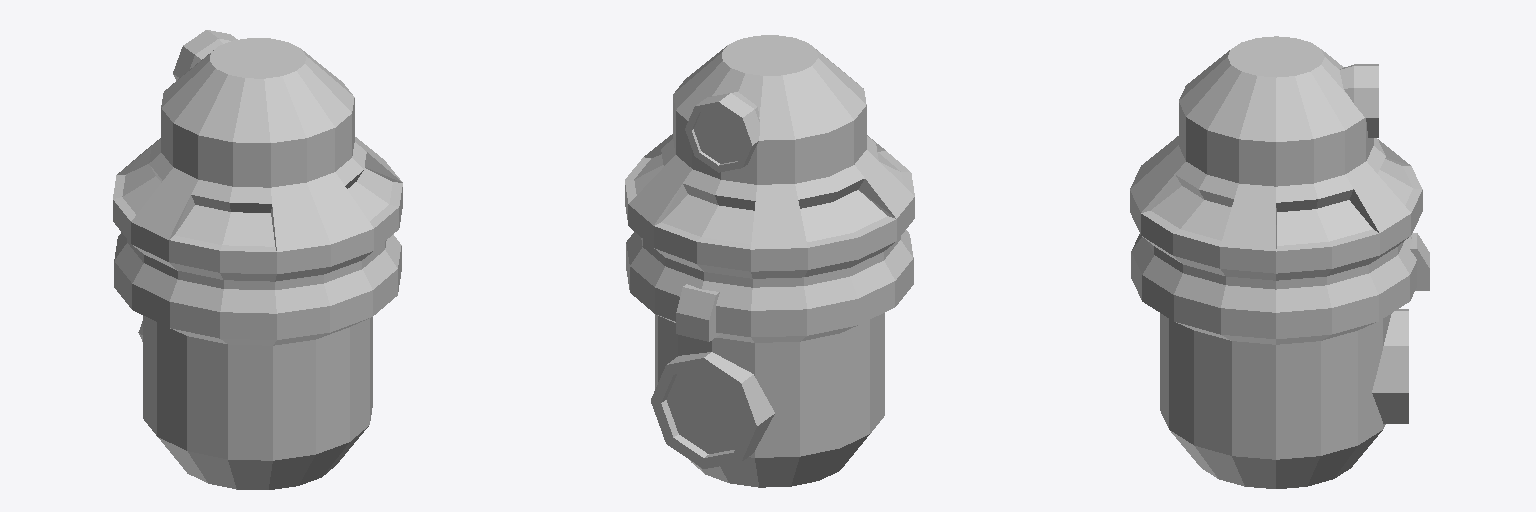
The model's file is Little Guy.obj.
3 views of the same model, side by side, from view 1: azimuth 30°, elevation 25°; view 2: azimuth 150°, elevation 25°; view 3: azimuth 270°, elevation 25° (orthographic).
Parts seen in each view (by area): view 1: Cylinder.003_Cylinder.006; view 2: Cylinder.003_Cylinder.006; view 3: Cylinder.003_Cylinder.006.
Boxes of the visible parts, box(x1,y1,x2,y2) form: Cylinder.003_Cylinder.006: box(113, 30, 402, 489); Cylinder.003_Cylinder.006: box(625, 35, 914, 487); Cylinder.003_Cylinder.006: box(1130, 36, 1429, 488).
Size of the model in its own units: 0.6 by 0.9 by 0.6156.